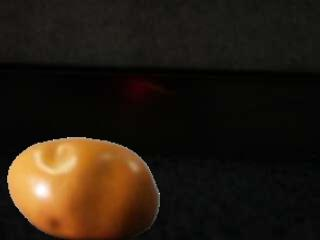Potato: (7, 137, 159, 240)
